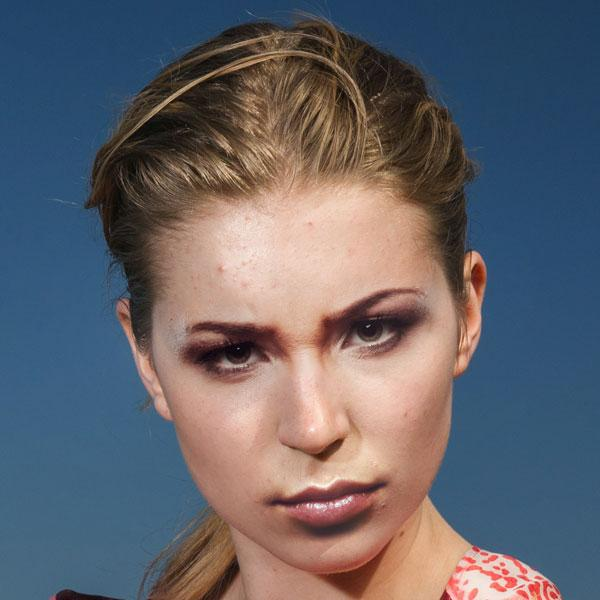Eyes: (326, 299, 424, 362), (189, 329, 282, 384)
